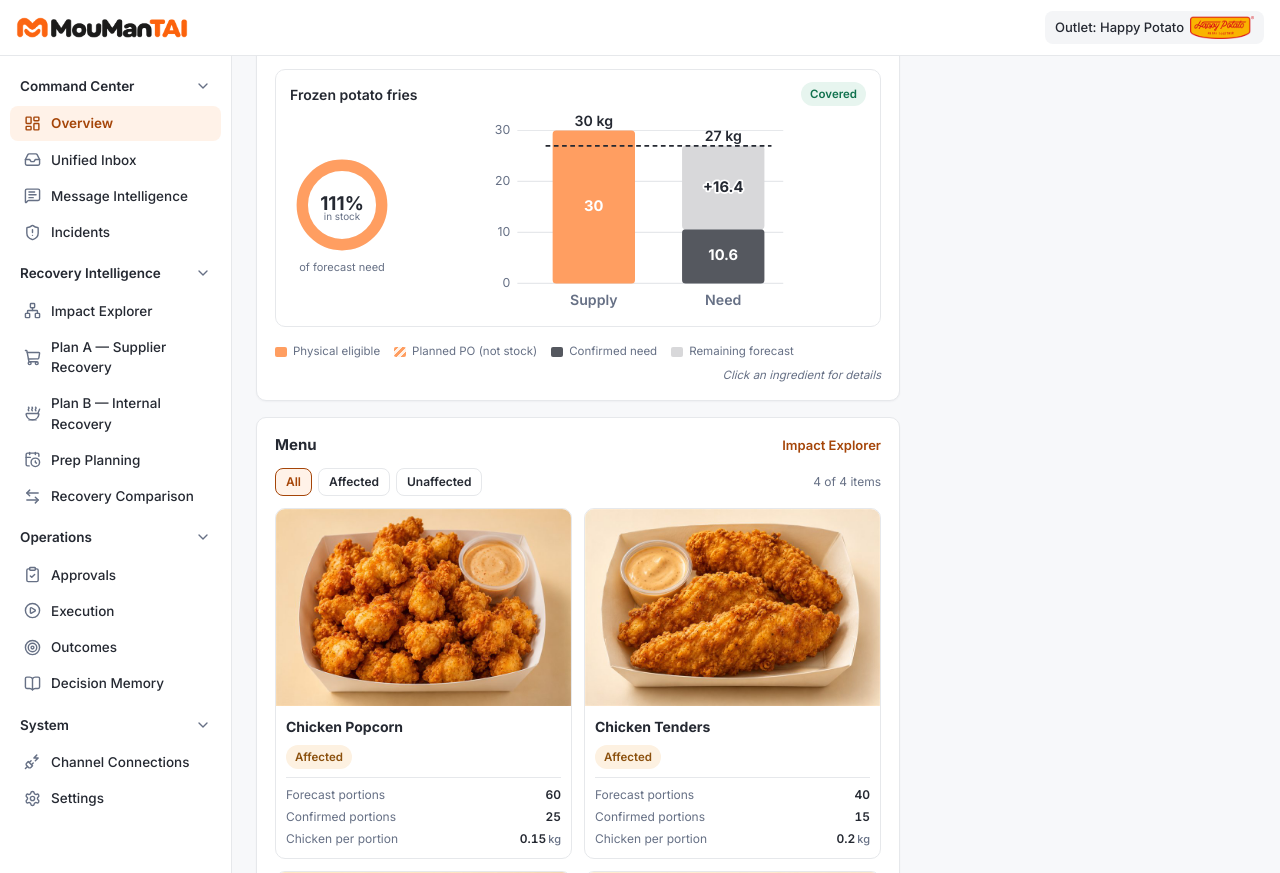
it: Operations Overview › filters the menu cards by chicken impact and restores all four photos
The image size is (1280, 873).
(page scrolled)
Click the button "Affected" at (354, 482), box [318, 468, 390, 496]
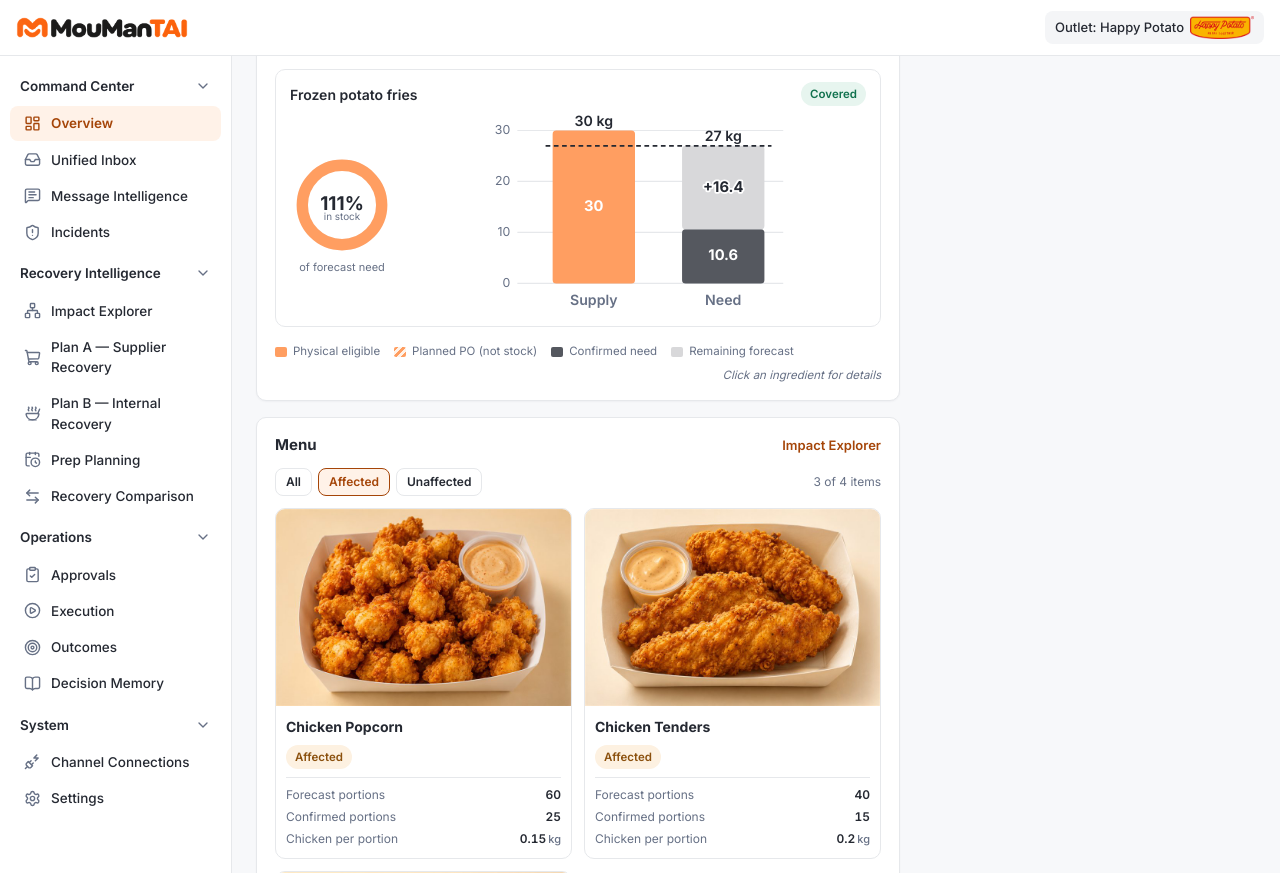
Check: the text "3 of 4 items" is shown, box [814, 473, 881, 491]
Click the button "Unaffected" at (439, 482), box [396, 468, 482, 496]
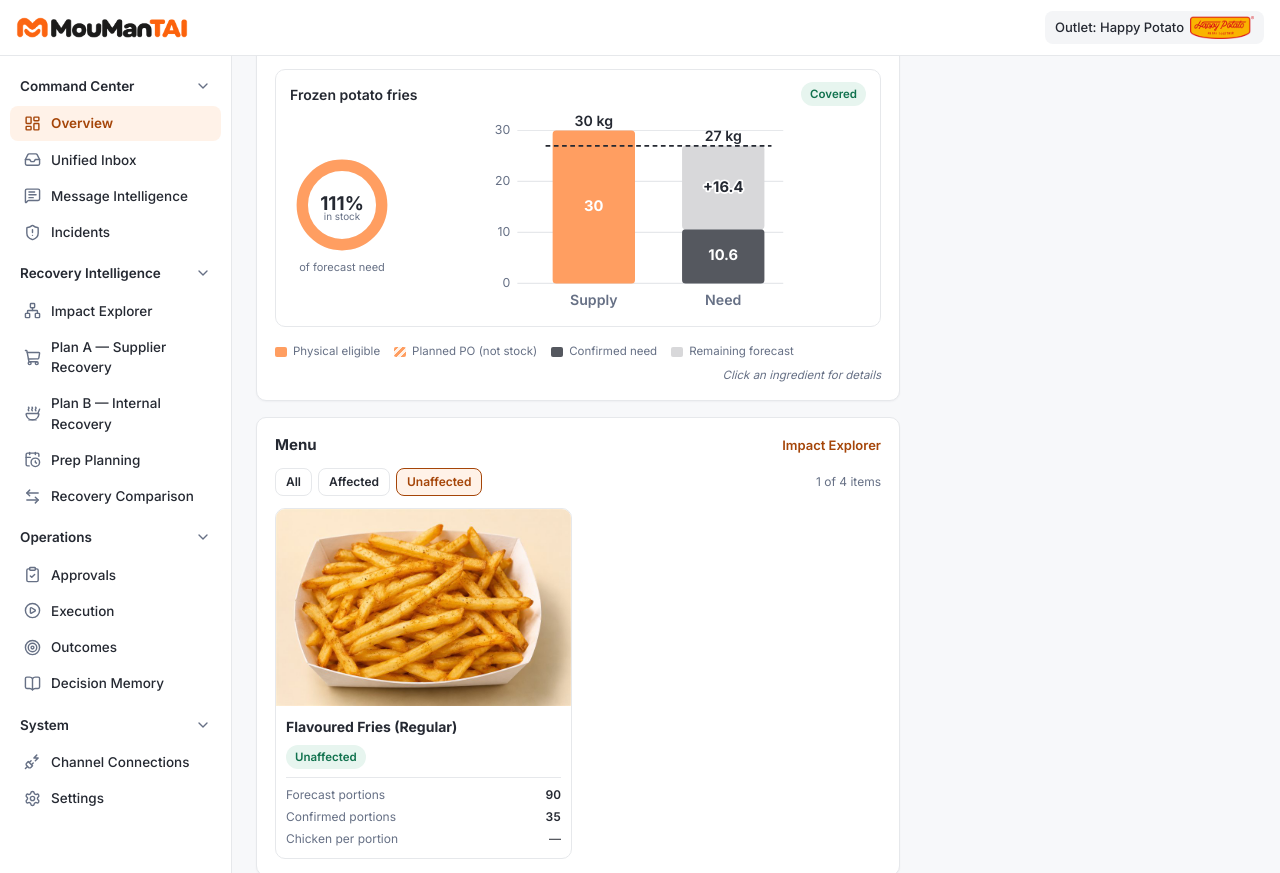
Check: the picture below "Click an ingredient for details" is shown, box [276, 509, 571, 706]
Check: the button "Unaffected" is pressed, box [396, 468, 482, 496]
Click the button "All" at (294, 482), box [275, 468, 312, 496]
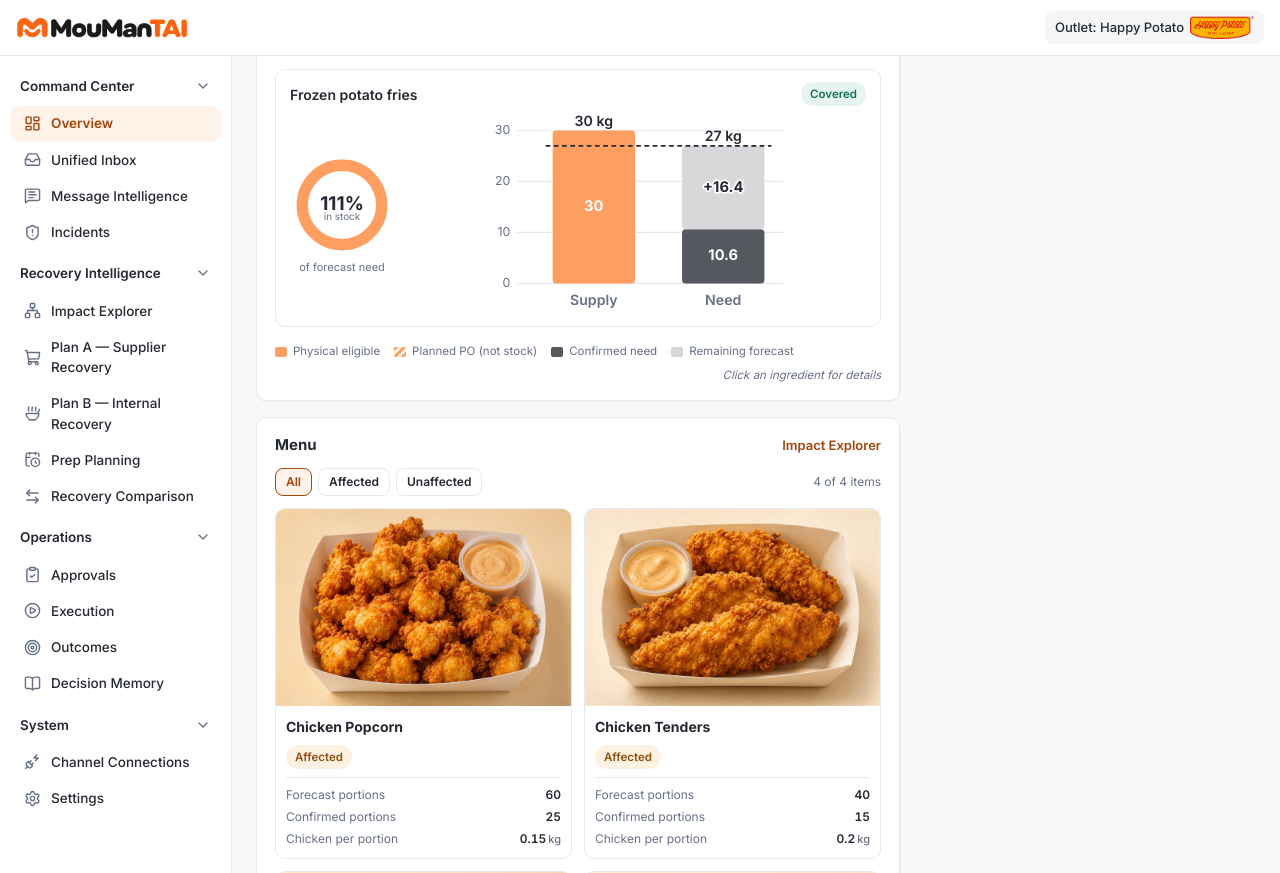
Check: the text "4 of 4 items" is shown, box [813, 473, 881, 491]
